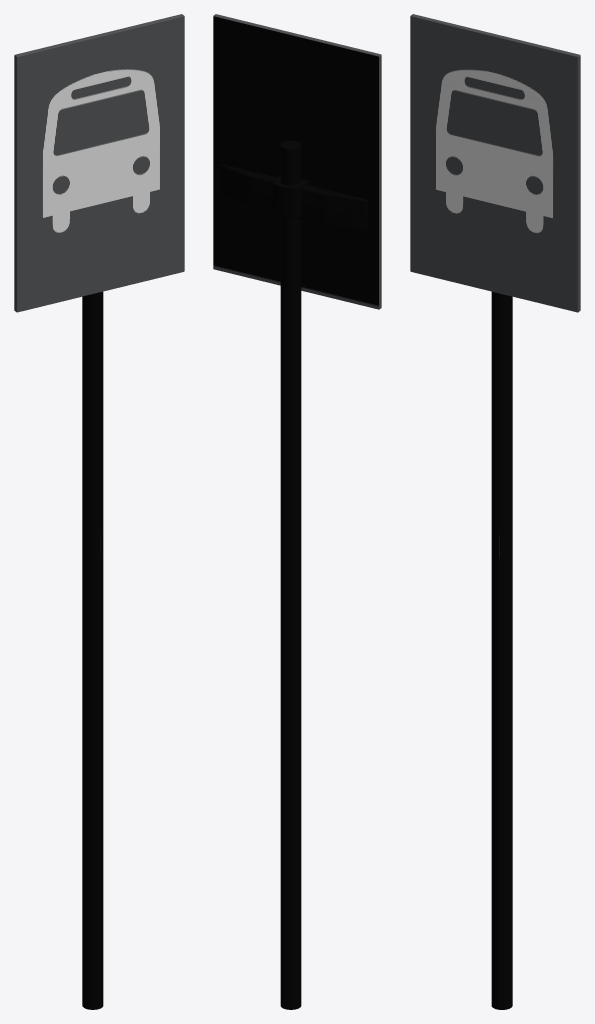
File: bus sign.fbx
The picture shows the model from 3 angles, left to right: view 1: azimuth 30°, elevation 25°; view 2: azimuth 150°, elevation 25°; view 3: azimuth 330°, elevation 25°; orthographic projection.
Parts seen in each view (by area): view 1: BusSigh; view 2: BusSigh; view 3: BusSigh.
Part boxes in pixels (x1=…): BusSigh: x1=14, y1=14, x2=184, y2=1009; BusSigh: x1=213, y1=14, x2=381, y2=1009; BusSigh: x1=410, y1=14, x2=580, y2=1009.
Bounding box in the file's own units: 1.35 × 7.46 × 0.2239.
